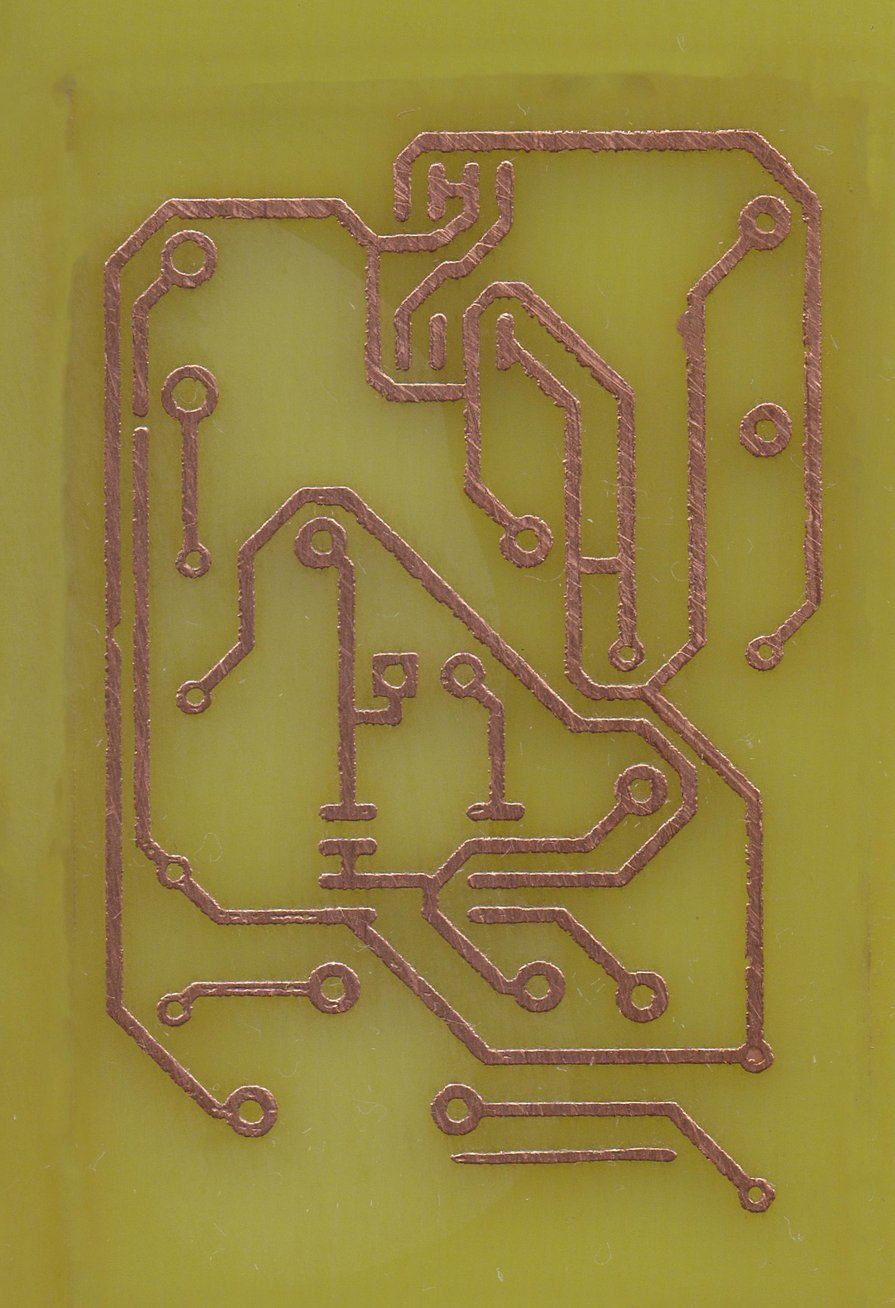mouse_bite: (102, 611, 123, 660)
open_circuit: (133, 398, 148, 444)
short: (558, 550, 638, 582)
spur: (672, 307, 708, 345)
spurious_copper: (442, 1152, 683, 1166)
